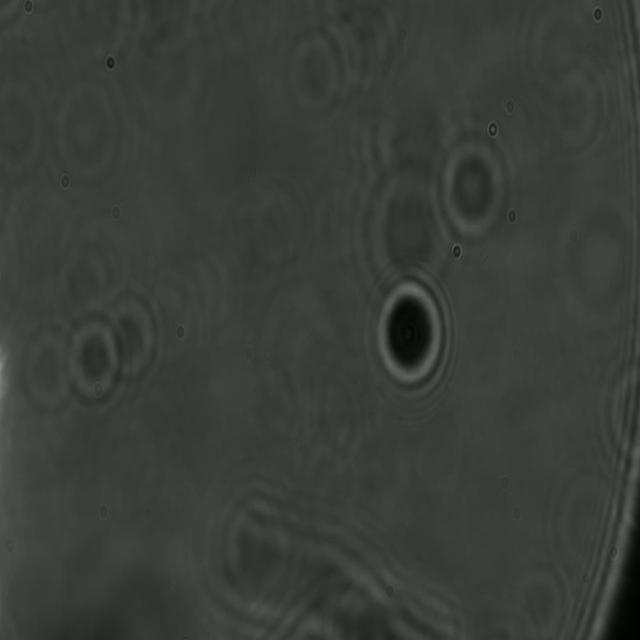DCELL: (372, 270, 454, 406)
